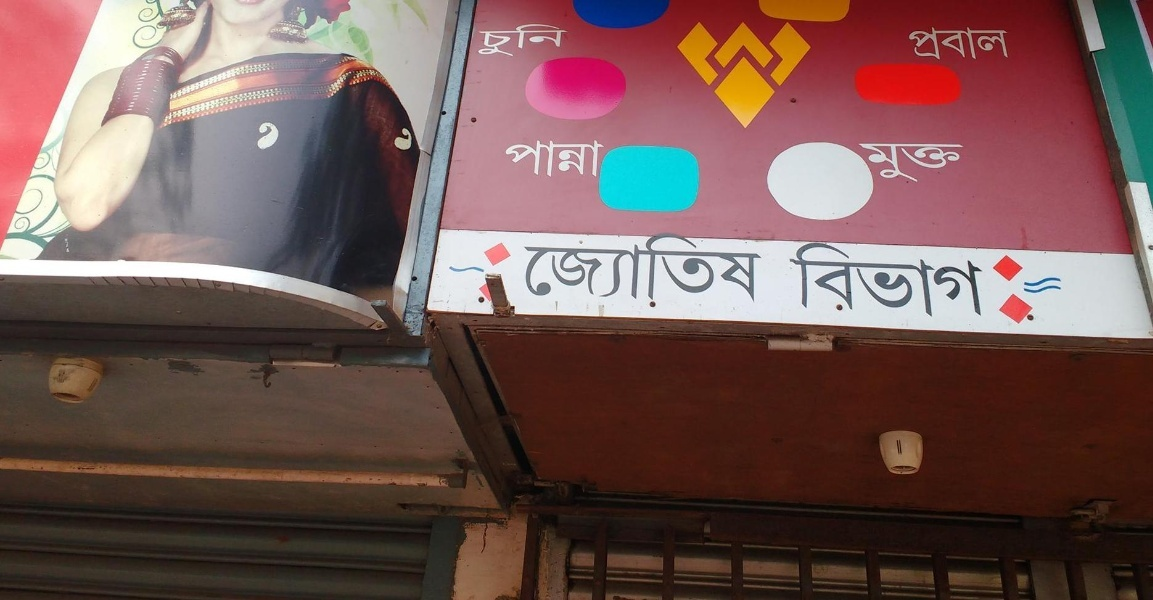text: (801, 240, 816, 319), (817, 240, 832, 319), (833, 240, 848, 319), (849, 240, 864, 319), (865, 240, 880, 319), (881, 240, 896, 319), (897, 240, 912, 319), (913, 240, 928, 319), (929, 240, 944, 319), (945, 240, 960, 319), (961, 240, 976, 319), (529, 234, 544, 301), (545, 234, 560, 301), (561, 234, 576, 301), (577, 234, 592, 301), (593, 234, 608, 301), (609, 234, 624, 301), (625, 234, 640, 301), (641, 234, 656, 301), (657, 234, 672, 301), (673, 234, 688, 301), (689, 234, 704, 301), (705, 234, 720, 301), (721, 234, 736, 301), (737, 234, 752, 301), (788, 240, 800, 319), (977, 240, 988, 319), (865, 140, 880, 186), (881, 140, 896, 186), (897, 140, 912, 186), (913, 140, 928, 186), (929, 140, 944, 186), (945, 140, 960, 186), (481, 20, 496, 62), (497, 20, 512, 62), (513, 20, 528, 62), (529, 20, 544, 62), (545, 20, 560, 62), (913, 25, 928, 65), (929, 25, 944, 65), (945, 25, 960, 65), (961, 25, 976, 65), (977, 25, 992, 65), (993, 25, 1008, 65), (513, 139, 528, 179), (529, 139, 544, 179), (545, 139, 560, 179), (561, 139, 576, 179), (577, 139, 592, 179), (753, 234, 761, 301), (961, 140, 972, 186), (593, 139, 605, 179), (854, 140, 864, 186), (561, 20, 570, 62), (1009, 25, 1017, 65), (506, 139, 512, 179), (525, 234, 528, 301), (908, 25, 912, 65)
